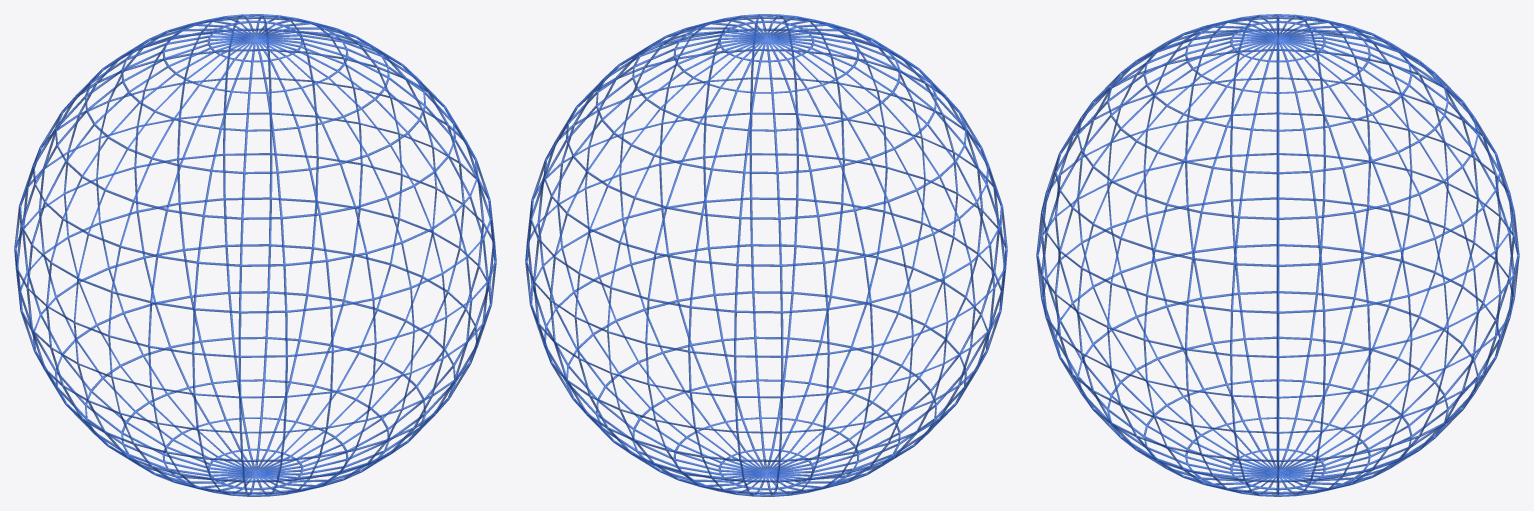
Rendered from orb_c3.glb.
3 renders of one model, left to right at view 1: azimuth 30°, elevation 25°; view 2: azimuth 150°, elevation 25°; view 3: azimuth 270°, elevation 25°, orthographic.
Visible parts, largest first — view 1: orb1_3; view 2: orb1_3; view 3: orb1_3.
Part boxes in pixels (x1,y1,x2,y2): orb1_3: (14, 14, 496, 496); orb1_3: (525, 14, 1007, 496); orb1_3: (1036, 14, 1519, 496).
Size of the model in its own units: 1.01 by 1.01 by 1.01.
